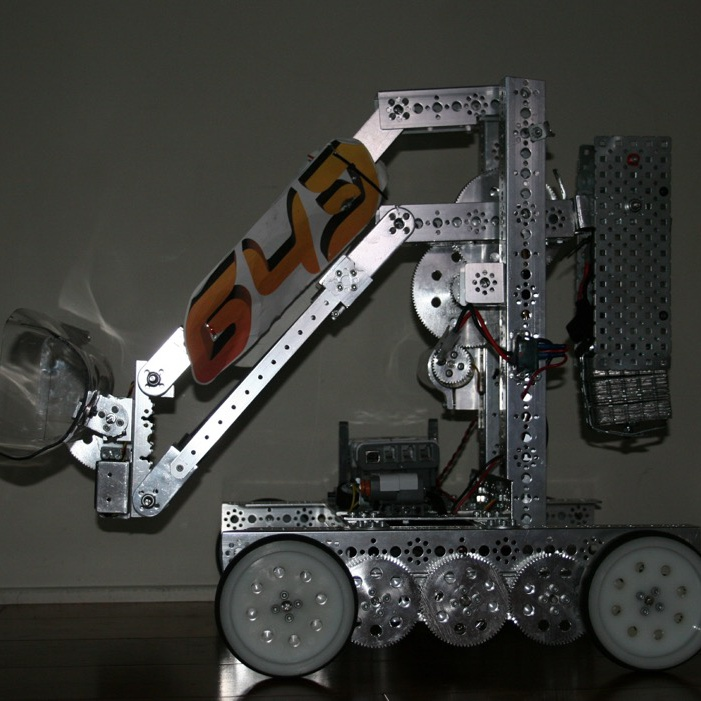robot: (2, 63, 700, 688)
